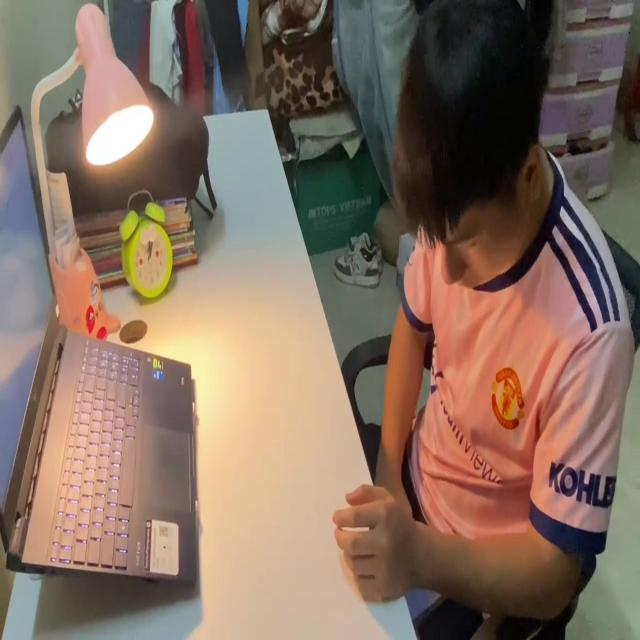laptop: (0, 97, 201, 596)
phone: (402, 579, 445, 624)
student: (334, 0, 639, 640)
